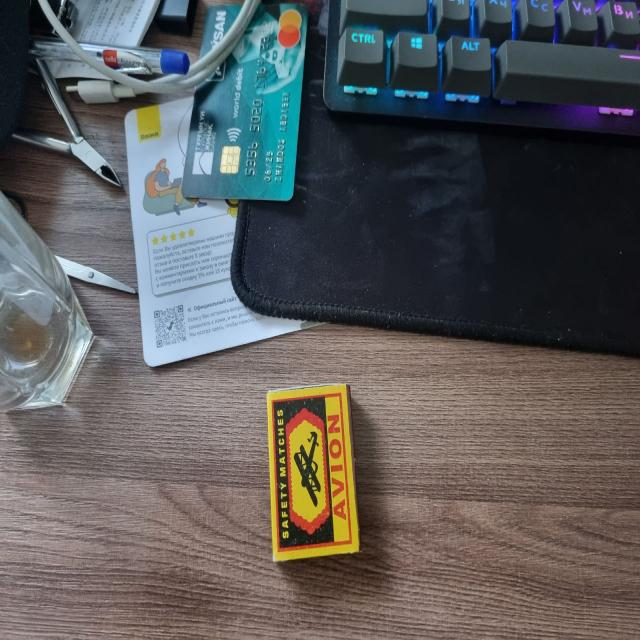match: (265, 382, 365, 571)
